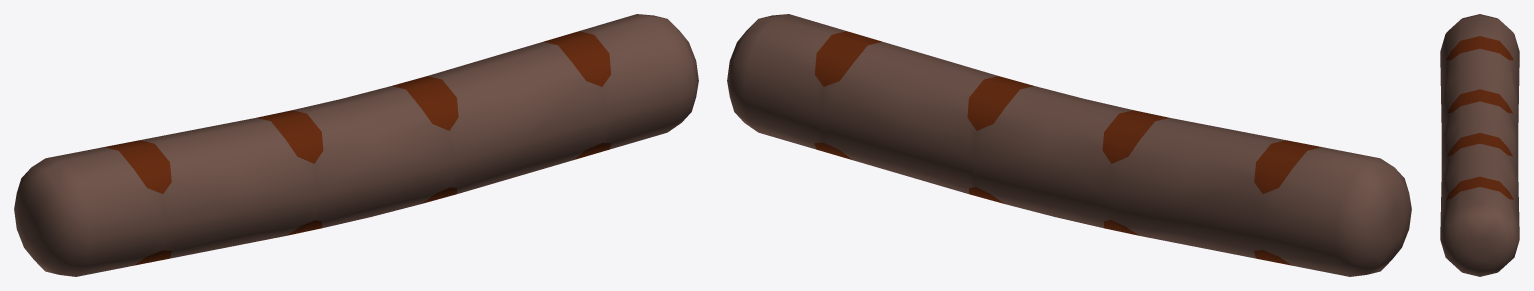
The model's file is Sausage_gril.006.fbx.
3 views of the same model, side by side, from view 1: azimuth 30°, elevation 25°; view 2: azimuth 150°, elevation 25°; view 3: azimuth 270°, elevation 25° (orthographic). The views are drawn at different scales.
Visible parts, largest first — view 1: Sausage_gril.006; view 2: Sausage_gril.006; view 3: Sausage_gril.006.
Boxes of the visible parts, left/top/right/bottom form: Sausage_gril.006: left=14, top=14, right=698, bottom=276; Sausage_gril.006: left=727, top=14, right=1411, bottom=276; Sausage_gril.006: left=1440, top=14, right=1519, bottom=276.
Size of the model in its own units: 160 by 25.88 by 28.84.
